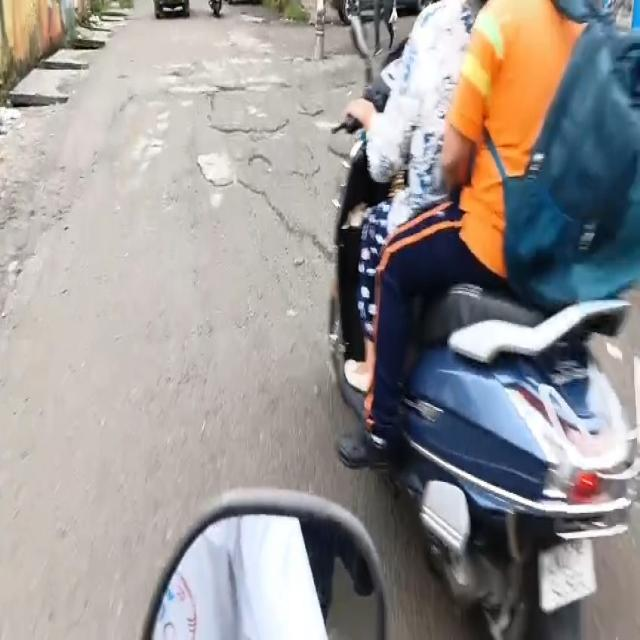road-pothole: (201, 77, 342, 255)
